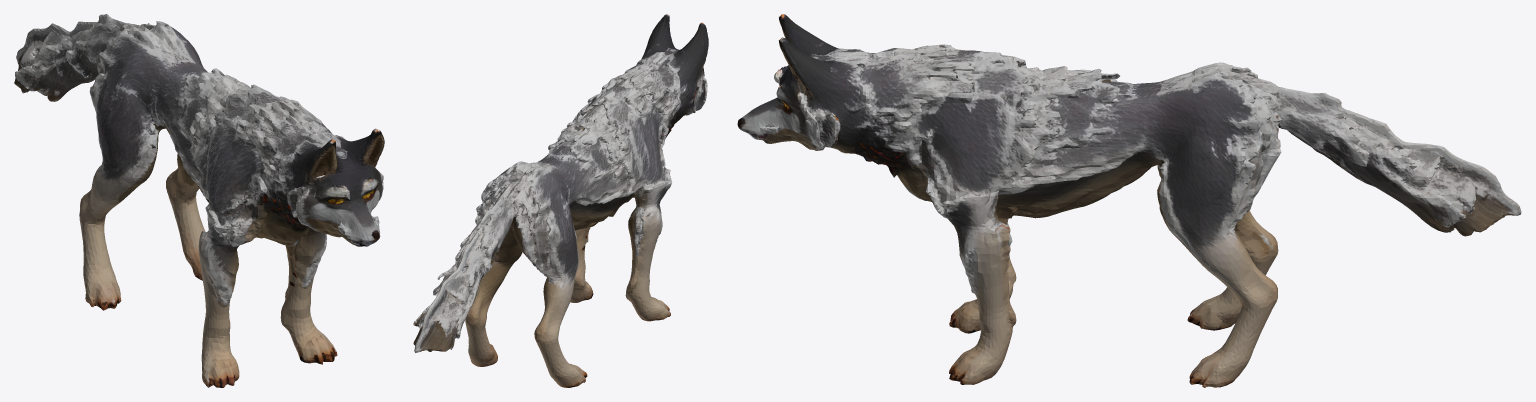
File: quadruped_husky.glb
3 views of the same model, side by side, from view 1: azimuth 30°, elevation 25°; view 2: azimuth 150°, elevation 25°; view 3: azimuth 270°, elevation 25° (orthographic). The views are drawn at different scales.
Visible parts, largest first — view 1: textured_mesh.obj; view 2: textured_mesh.obj; view 3: textured_mesh.obj.
Boxes of the visible parts, x1=… form: textured_mesh.obj: x1=14, y1=14, x2=384, y2=387; textured_mesh.obj: x1=413, y1=14, x2=708, y2=387; textured_mesh.obj: x1=737, y1=14, x2=1521, y2=387.
Size of the model in its own units: 0.447 by 0.9176 by 1.99.
Materials: 1 (1 with a texture image).
